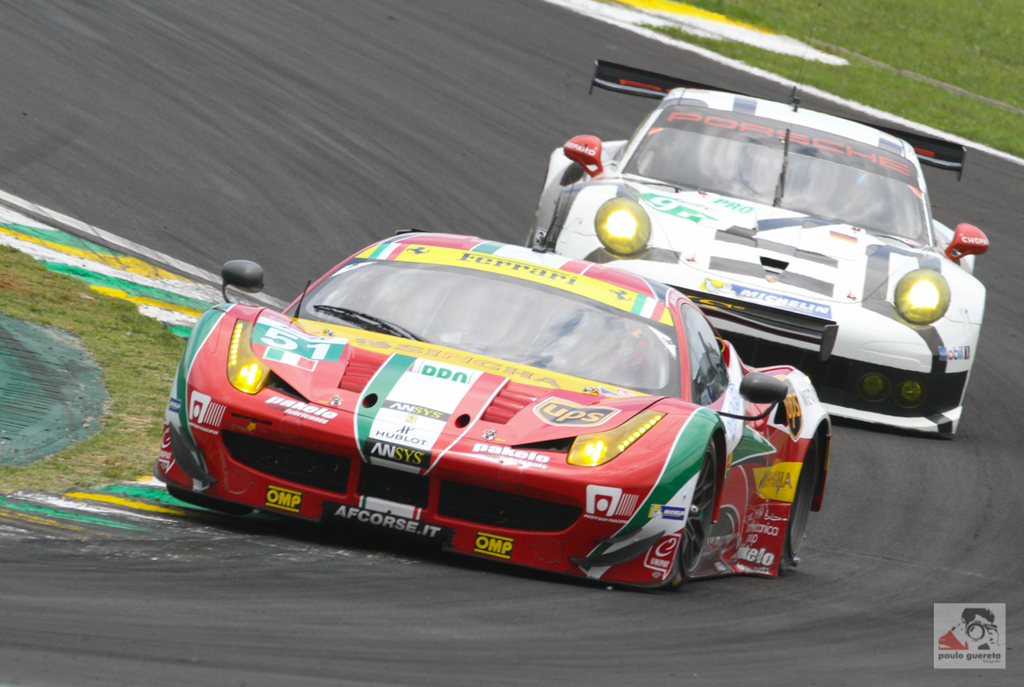Car: (152, 224, 829, 589), (524, 3, 989, 437)
